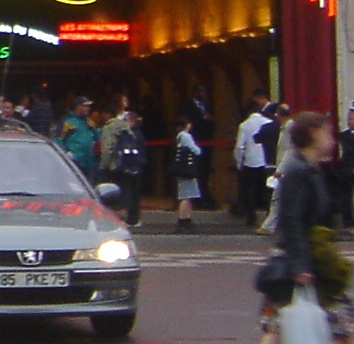person: (168, 112, 204, 239)
